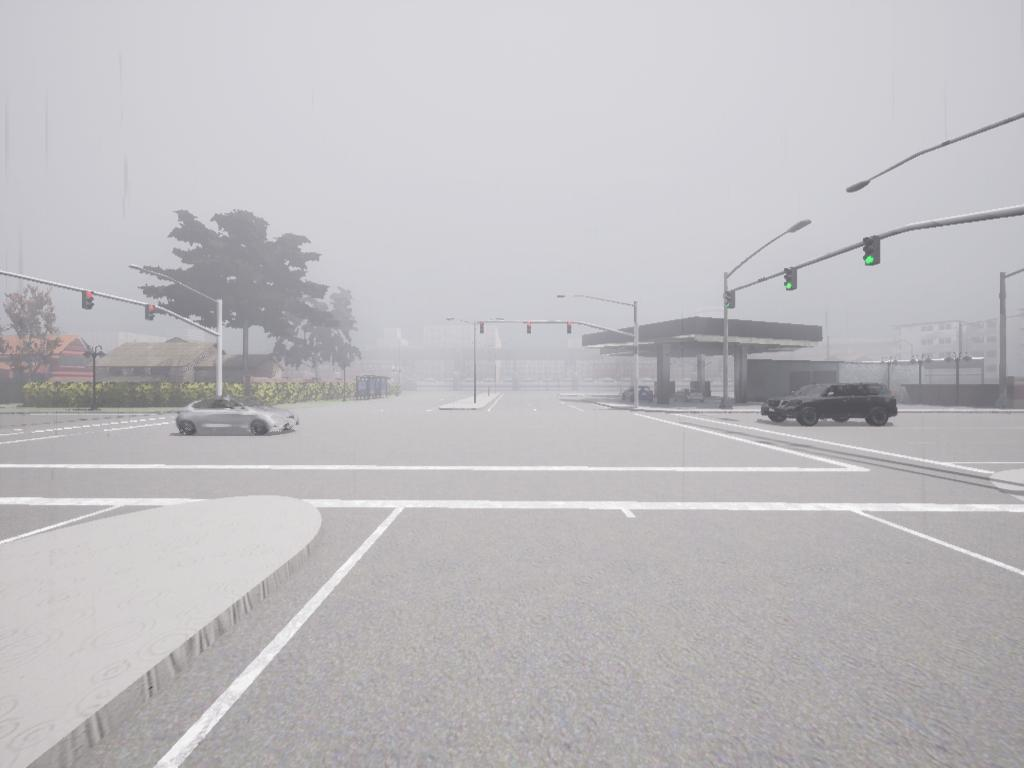traffic_light: (865, 237, 882, 266), (725, 288, 740, 312), (783, 270, 798, 292), (86, 291, 97, 310), (148, 308, 158, 323), (480, 321, 487, 338), (564, 323, 572, 334), (527, 323, 534, 335)
